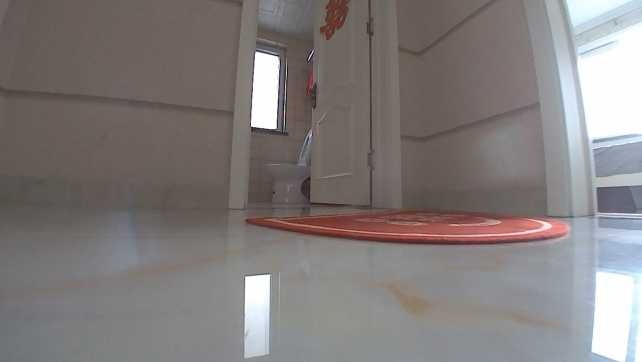blanket: (243, 203, 569, 245)
door_anno: (309, 1, 408, 206)
toilet: (265, 130, 311, 205)
